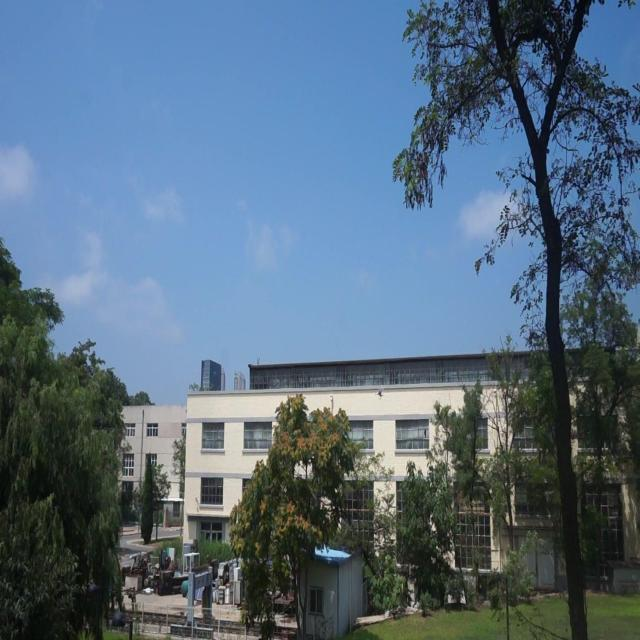drone: (372, 384, 388, 404)
